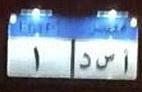1: (32, 45, 44, 72)
alif: (122, 47, 130, 77)
daal: (78, 50, 93, 75)
seen: (95, 52, 116, 73)
